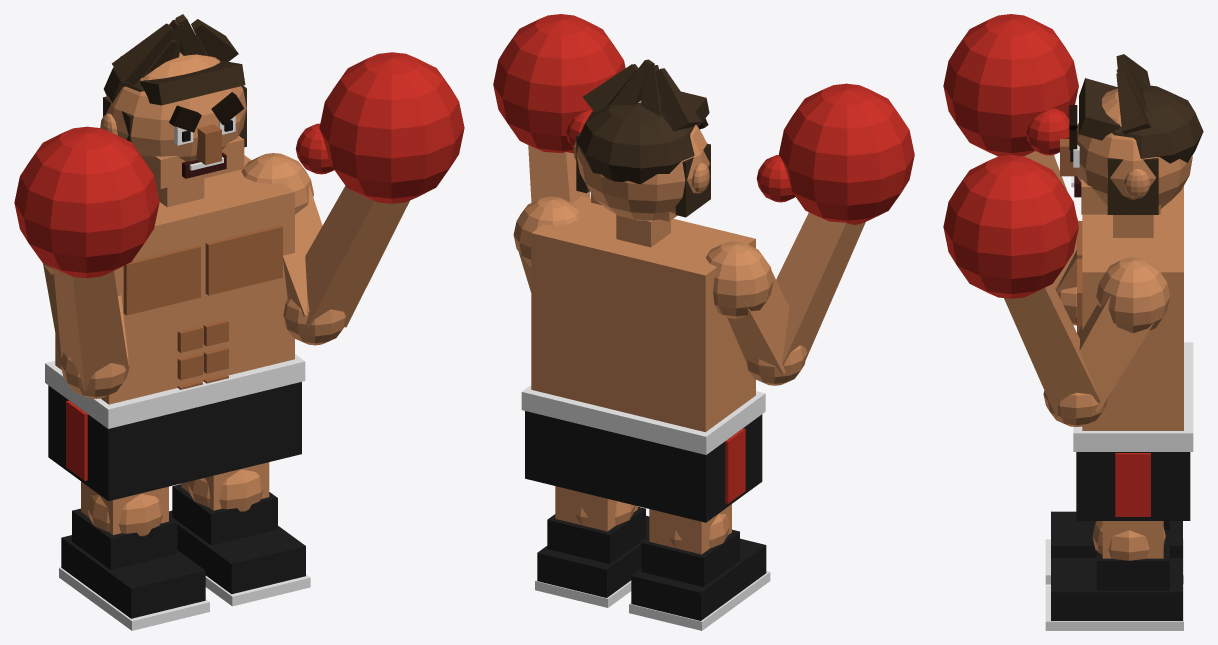
File: boxeador_retador.obj
3 views of the same model, side by side, from view 1: azimuth 30°, elevation 25°; view 2: azimuth 150°, elevation 25°; view 3: azimuth 270°, elevation 25° (orthographic). The views are drawn at different scales.
Parts seen in each view (by area): view 1: torso, short, guante_L, guante_R, antebrazo_R, zapato_L, cabeza, cintura, antebrazo_L, zapato_R, pecho_R, pecho_L (+22 smaller); view 2: torso, short, guante_L, guante_R, antebrazo_L, pelo_base, cintura, zapato_L, cabeza, hombro_L, zapato_R, caña_R (+18 smaller); view 3: guante_R, guante_L, torso, zapato_R, antebrazo_R, short, cabeza, hombro_R, pelo_base, brazo_R, cintura, caña_R (+19 smaller).
Boxes of the visible parts, left/top/right/bottom form: torso: left=55, top=155, right=294, bottom=404; short: left=48, top=382, right=301, bottom=501; guante_L: left=14, top=126, right=159, bottom=278; guante_R: left=319, top=52, right=464, bottom=203; antebrazo_R: left=305, top=186, right=409, bottom=327; zapato_L: left=61, top=535, right=205, bottom=618; cabeza: left=106, top=52, right=246, bottom=166; cintura: left=45, top=354, right=305, bottom=428; antebrazo_L: left=53, top=268, right=128, bottom=390; zapato_R: left=169, top=510, right=305, bottom=594; pecho_R: left=205, top=225, right=282, bottom=295; pecho_L: left=123, top=245, right=200, bottom=315; torso: left=531, top=196, right=755, bottom=432; short: left=525, top=411, right=762, bottom=522; guante_L: left=778, top=83, right=914, bottom=224; guante_R: left=493, top=14, right=625, bottom=153; antebrazo_L: left=776, top=212, right=865, bottom=365; pelo_base: left=577, top=103, right=694, bottom=184; cintura: left=521, top=385, right=765, bottom=454; zapato_L: left=631, top=538, right=766, bottom=620; cabeza: left=576, top=100, right=709, bottom=220; hombro_L: left=706, top=241, right=773, bottom=318; zapato_R: left=537, top=515, right=649, bottom=597; caña_R: left=547, top=506, right=645, bottom=564; guante_R: left=943, top=155, right=1078, bottom=298; guante_L: left=943, top=14, right=1078, bottom=156; torso: left=1082, top=186, right=1183, bottom=430; zapato_R: left=1051, top=558, right=1182, bottom=620; antebrazo_R: left=1004, top=284, right=1100, bottom=416; short: left=1076, top=452, right=1190, bottom=520; cabeza: left=1075, top=88, right=1192, bottom=215; hombro_R: left=1096, top=257, right=1170, bottom=333; pelo_base: left=1111, top=85, right=1203, bottom=163; brazo_R: left=1077, top=295, right=1157, bottom=412; cintura: left=1073, top=342, right=1193, bottom=451; caña_R: left=1096, top=530, right=1169, bottom=590.
Bounding box in the file's own units: 2.32 × 2.9 × 1.28.
